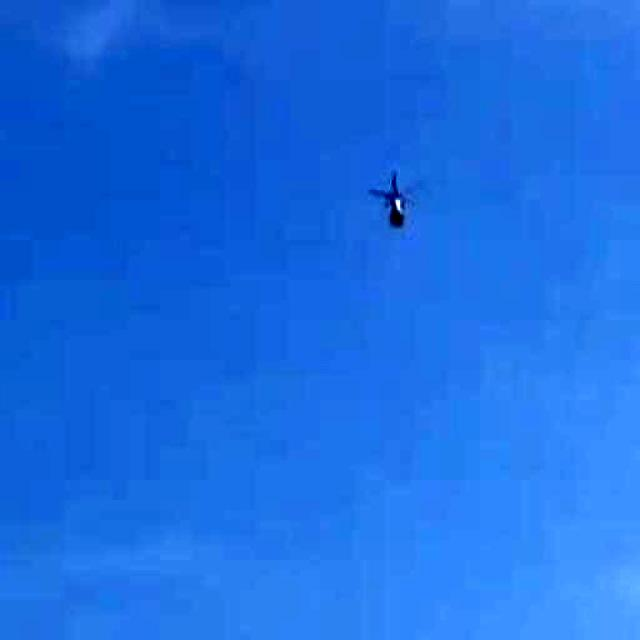drone: (355, 160, 439, 246)
